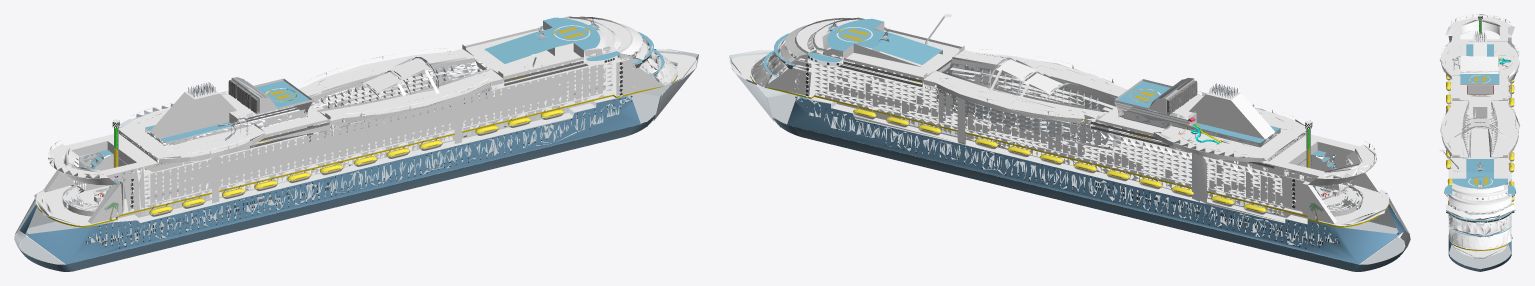
The model's file is cruise.glb.
3 views of the same model, side by side, from view 1: azimuth 30°, elevation 25°; view 2: azimuth 150°, elevation 25°; view 3: azimuth 270°, elevation 25° (orthographic). The views are drawn at different scales.
Visible parts, largest first — view 1: Material2.034, Material4.001, Material3.002, Material2.003, Material3.032, Material3.001, Material3.029, Material2.035, Material2.032, Material3, Material3.030, Material2.001 (+8 smaller); view 2: Material4.001, Material3.002, Material2.035, Material3.032, Material2.034, Material2.003, Material3.001, Material3.029, Material2.001, Material3.030, Material3, Material2.032 (+9 smaller); view 3: Material4.001, Material2.035, Material3.030, Material3, Material3.029, Material3.032, Material2.032, Material2.034, Material2.003, Material2.001, Material2.002, Material3.009 (+9 smaller).
Boxes of the visible parts, x1,y1,x2,y2 form: Material2.034: (34, 30, 612, 225); Material4.001: (49, 18, 695, 222); Material3.002: (19, 95, 640, 264); Material2.003: (20, 37, 698, 268); Material3.032: (62, 16, 634, 213); Material3.001: (19, 116, 654, 271); Material3.029: (42, 16, 632, 224); Material2.035: (44, 21, 678, 214); Material2.032: (48, 32, 699, 215); Material3: (86, 17, 664, 196); Material3.030: (118, 52, 634, 166); Material2.001: (34, 21, 675, 220); Material4.001: (732, 19, 1376, 224); Material3.002: (787, 95, 1405, 264); Material2.035: (750, 22, 1376, 223); Material3.032: (789, 17, 1362, 220); Material2.034: (822, 28, 1389, 226); Material2.003: (729, 17, 1404, 268); Material3.001: (773, 117, 1405, 271); Material3.029: (795, 14, 1382, 224); Material2.001: (751, 19, 1362, 224); Material3.030: (794, 53, 1306, 166); Material3: (763, 18, 1337, 196); Material2.032: (728, 33, 1376, 215); Material4.001: (1441, 17, 1519, 257); Material2.035: (1445, 14, 1519, 249); Material3.030: (1445, 45, 1516, 158); Material3: (1444, 44, 1515, 236); Material3.029: (1439, 14, 1511, 205); Material3.032: (1448, 20, 1511, 234); Material2.032: (1441, 14, 1518, 258); Material2.034: (1441, 42, 1520, 193); Material2.003: (1439, 34, 1520, 269); Material2.001: (1443, 32, 1518, 247); Material2.002: (1443, 31, 1518, 268); Material3.009: (1446, 74, 1514, 205).
Size of the model in its own units: 1 by 0.184 by 0.1545.
